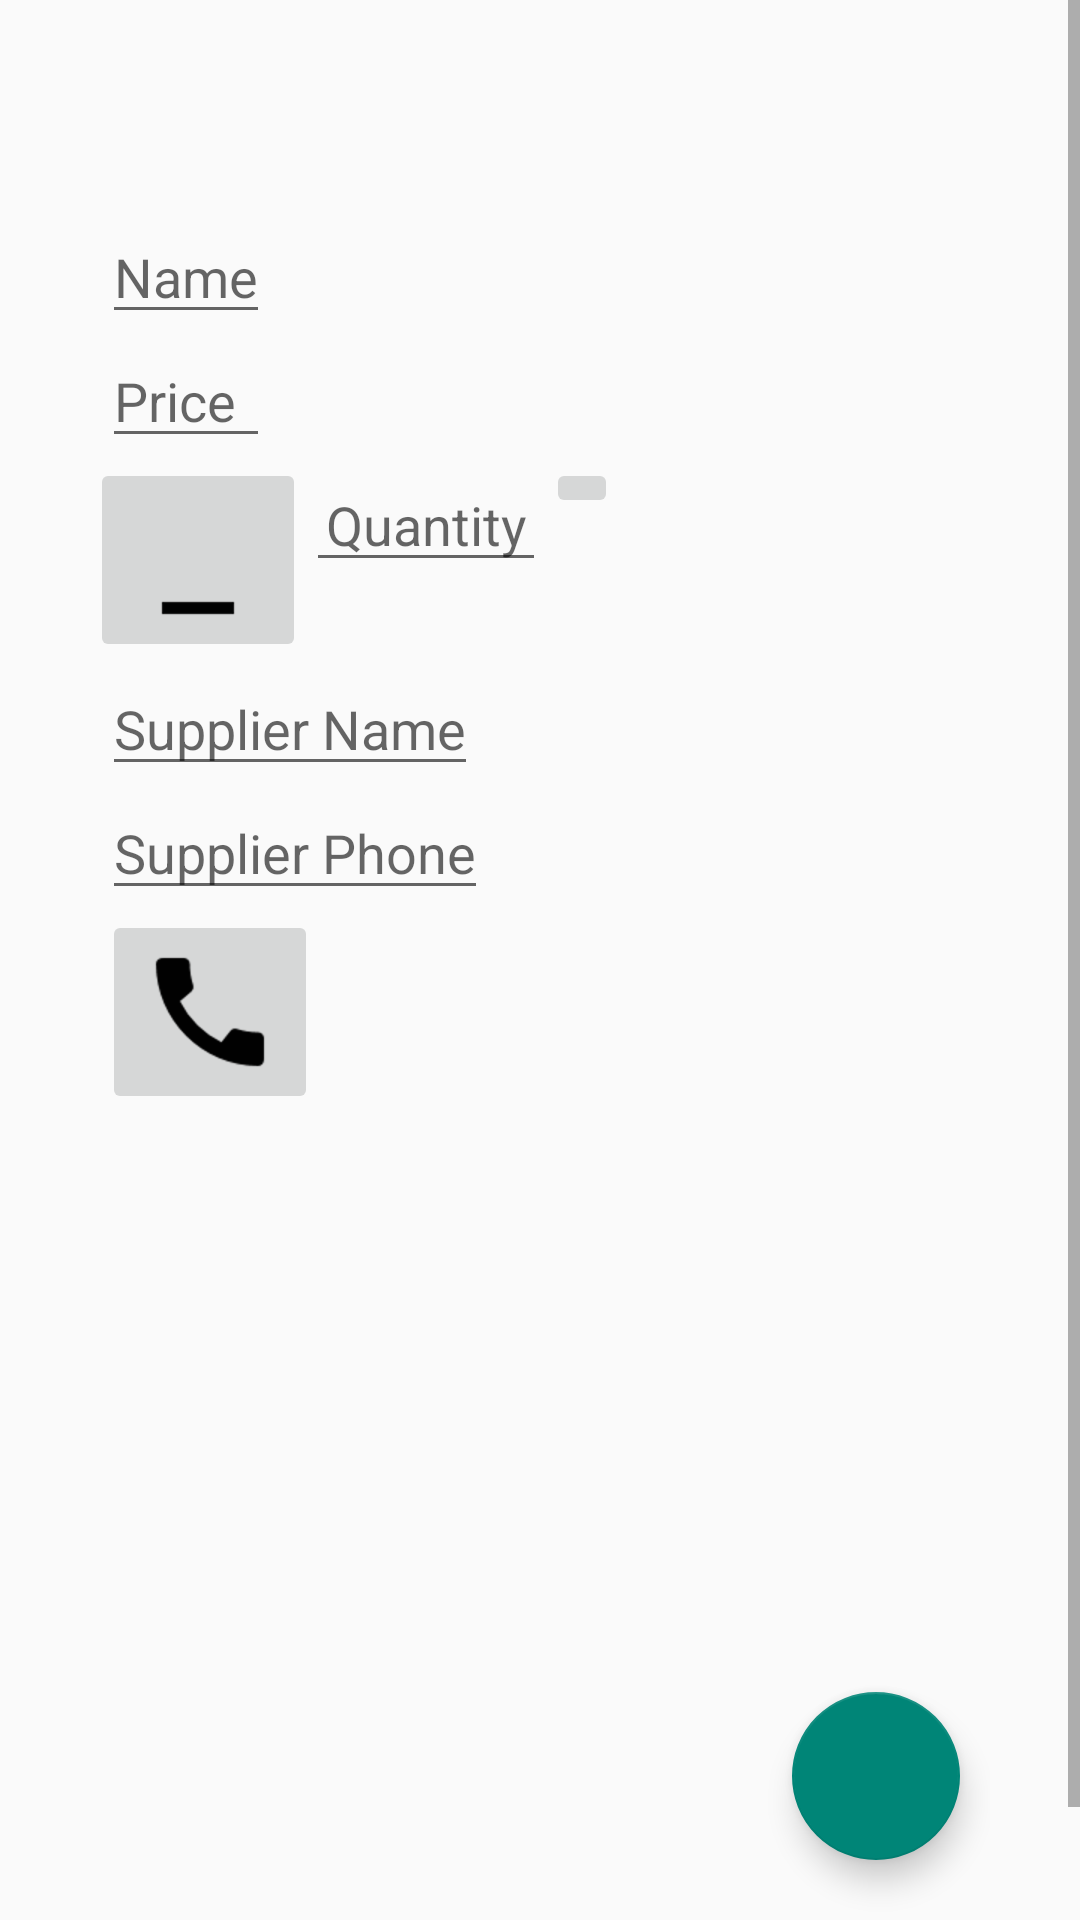

Where to tap for icons on this 1080px×1920px app screen, as (x=x, y=y):
minus button: (x=198, y=560)
